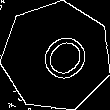O_SW: (23, 23, 90, 90)
